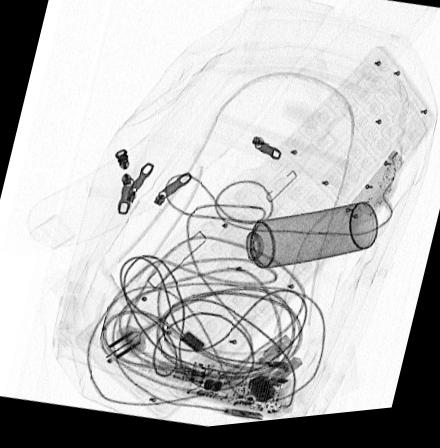Sprayer: (226, 209, 379, 277)
